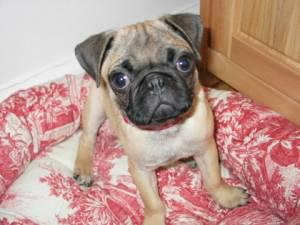dog: (73, 11, 202, 124)
